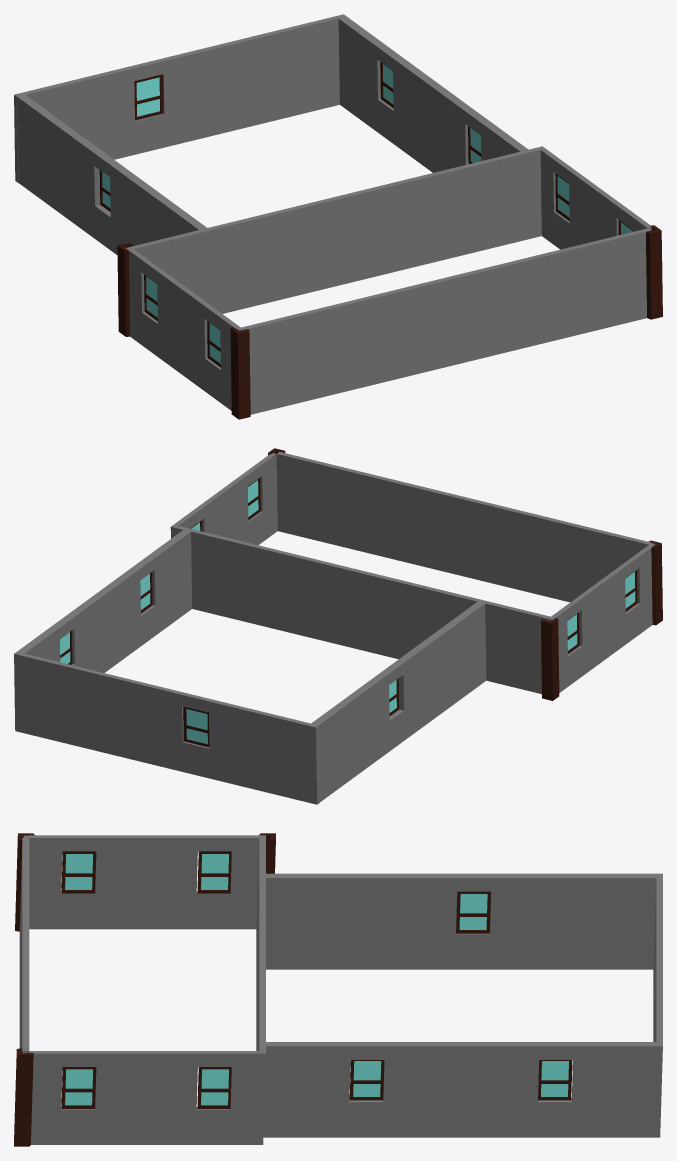
Rendered from EtageMaison_01.fbx.
3 views of the same model, one above another, from view 1: azimuth 30°, elevation 25°; view 2: azimuth 150°, elevation 25°; view 3: azimuth 270°, elevation 25° (orthographic). The views are drawn at different scales.
Visible parts, largest first — view 1: EtageMaison_01; view 2: EtageMaison_01; view 3: EtageMaison_01.
Part boxes in pixels (x1,y1,x2,y2): EtageMaison_01: (14,14,662,419); EtageMaison_01: (14,448,662,804); EtageMaison_01: (14,833,662,1146).
Size of the model in its own units: 1697 by 327 by 2099.
